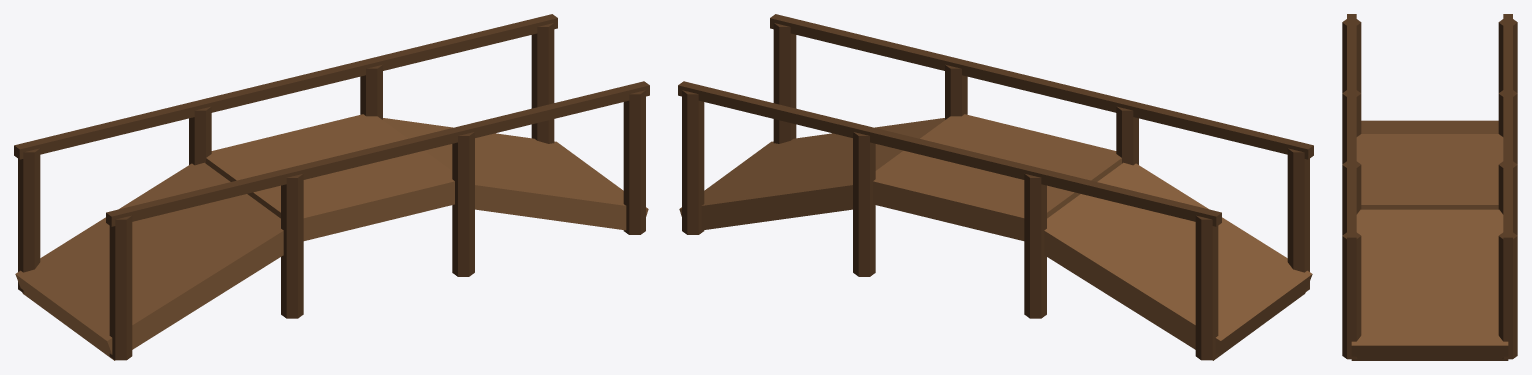
Rendered from plank-bridge.glb.
The picture shows the model from 3 angles, left to right: view 1: azimuth 30°, elevation 25°; view 2: azimuth 150°, elevation 25°; view 3: azimuth 270°, elevation 25°; orthographic projection. The views are drawn at different scales.
Parts seen in each view (by area): view 1: plank_bridge; view 2: plank_bridge; view 3: plank_bridge.
Part boxes in pixels (bbox=[...]): plank_bridge: bbox=[14, 14, 649, 360]; plank_bridge: bbox=[678, 14, 1313, 360]; plank_bridge: bbox=[1342, 14, 1517, 360].
Size of the model in its own units: 0.4426 by 0.1154 by 0.146.
